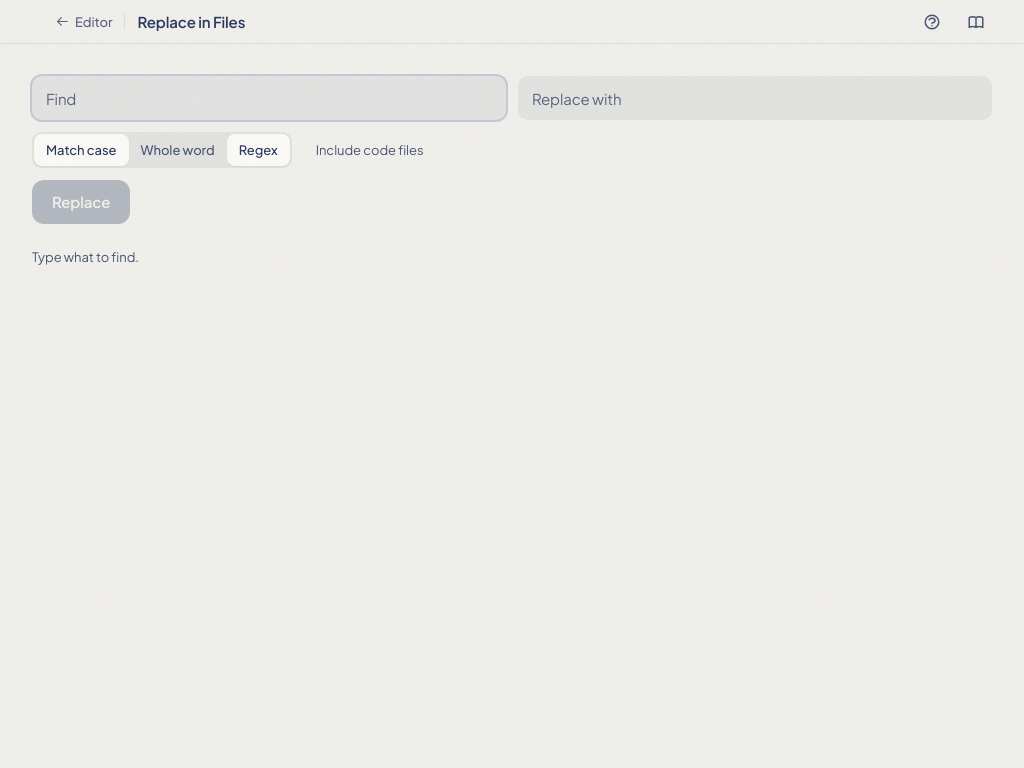
Test: ReplacePage › updates rows when typing in Replace with, without a new scan
Type "foo" into the field labelled "Find" at (269, 98), box [32,76,506,120]
Wait 300 ms
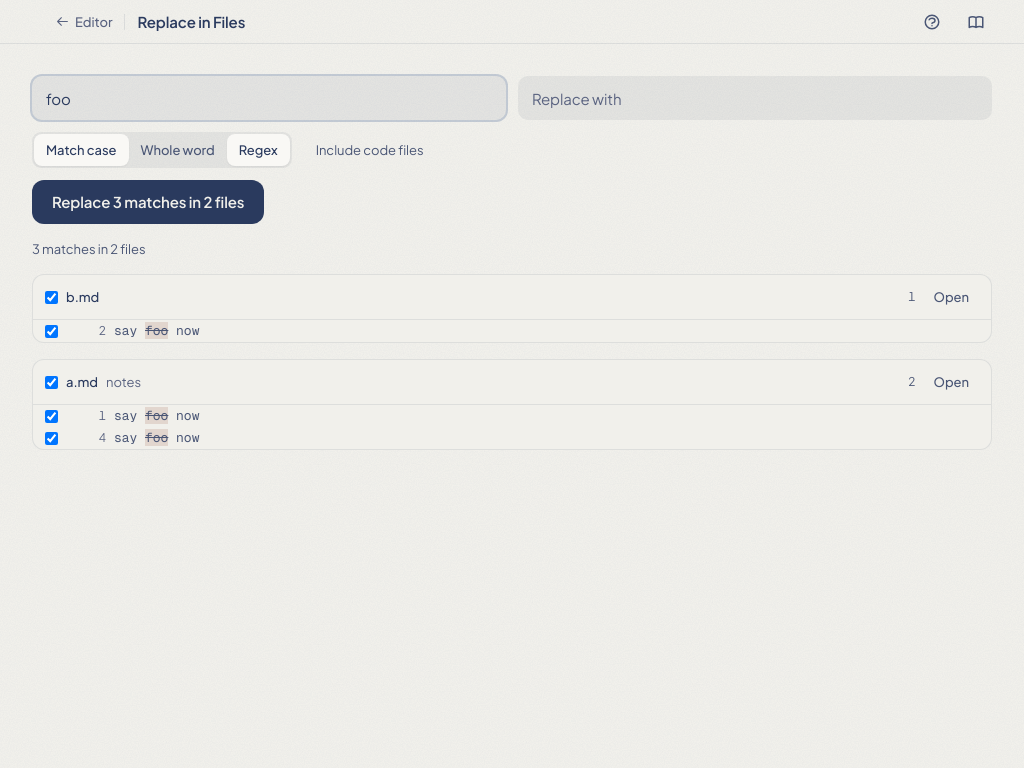
Type "qux" into the field labelled "Replace with" at (755, 98), box [518,76,992,120]
Wait 300 ms
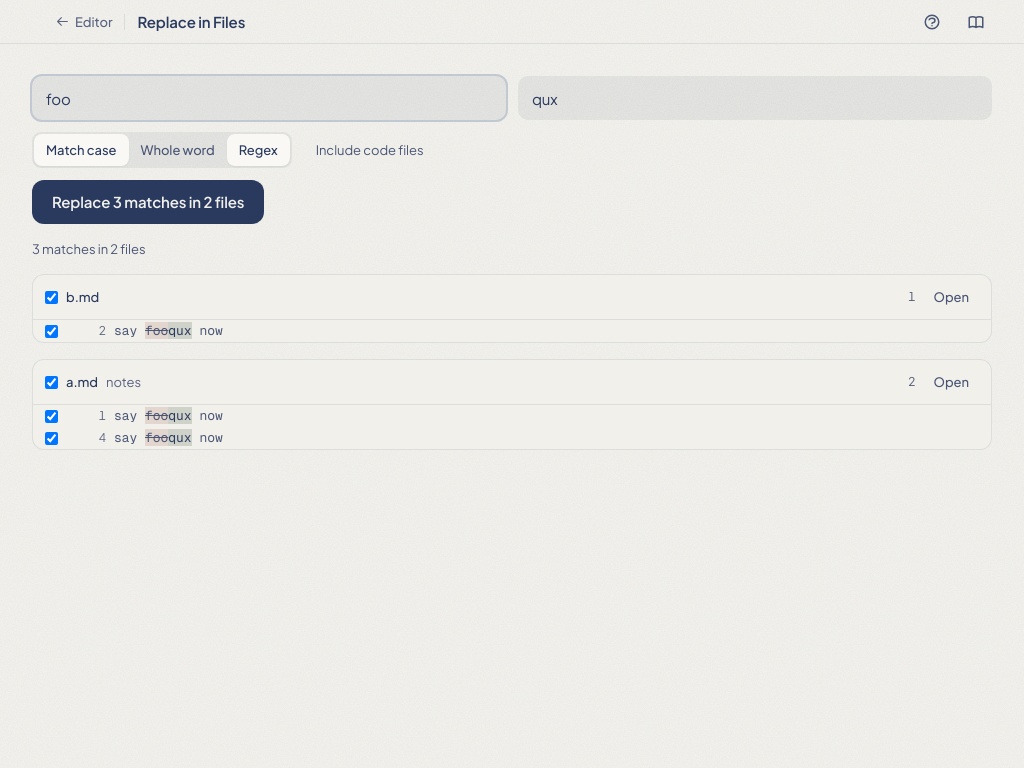
Now the text "qux" is shown 3 times, box [168,322,192,339]; [168,407,192,424]; [168,429,192,446]
